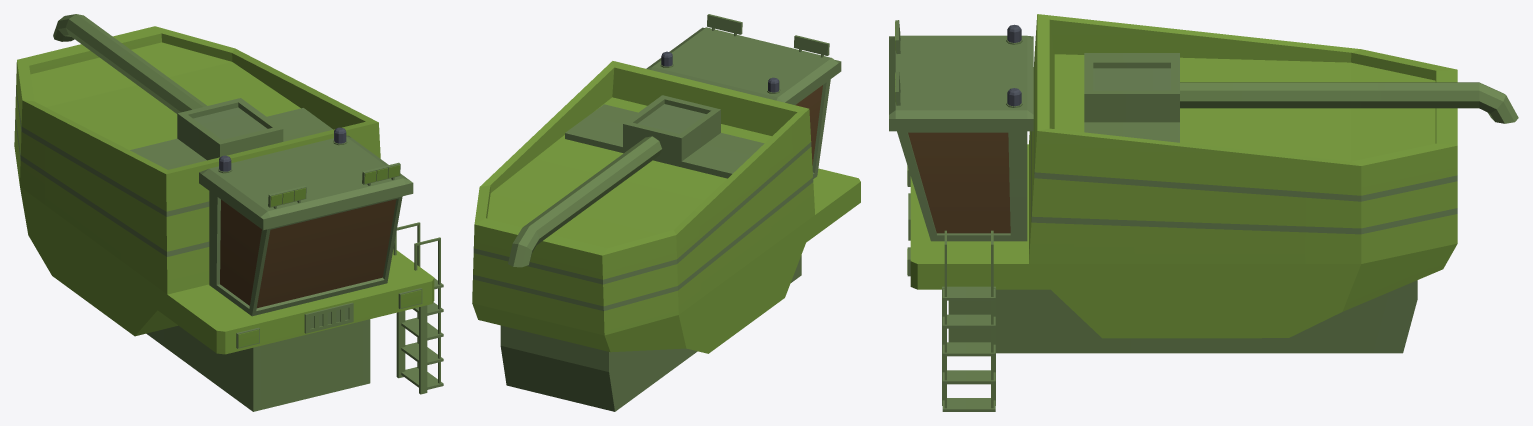
File: Harvester_02.fbx
3 views of the same model, side by side, from view 1: azimuth 30°, elevation 25°; view 2: azimuth 150°, elevation 25°; view 3: azimuth 270°, elevation 25° (orthographic). The views are drawn at different scales.
Parts seen in each view (by area): view 1: Harvester_02; view 2: Harvester_02; view 3: Harvester_02.
Boxes of the visible parts, x1,y1,x2,y2 form: Harvester_02: (14, 14, 443, 411); Harvester_02: (472, 14, 860, 411); Harvester_02: (889, 14, 1518, 411).
Bounding box in the file's own units: 3.07 × 3.15 × 6.24.
